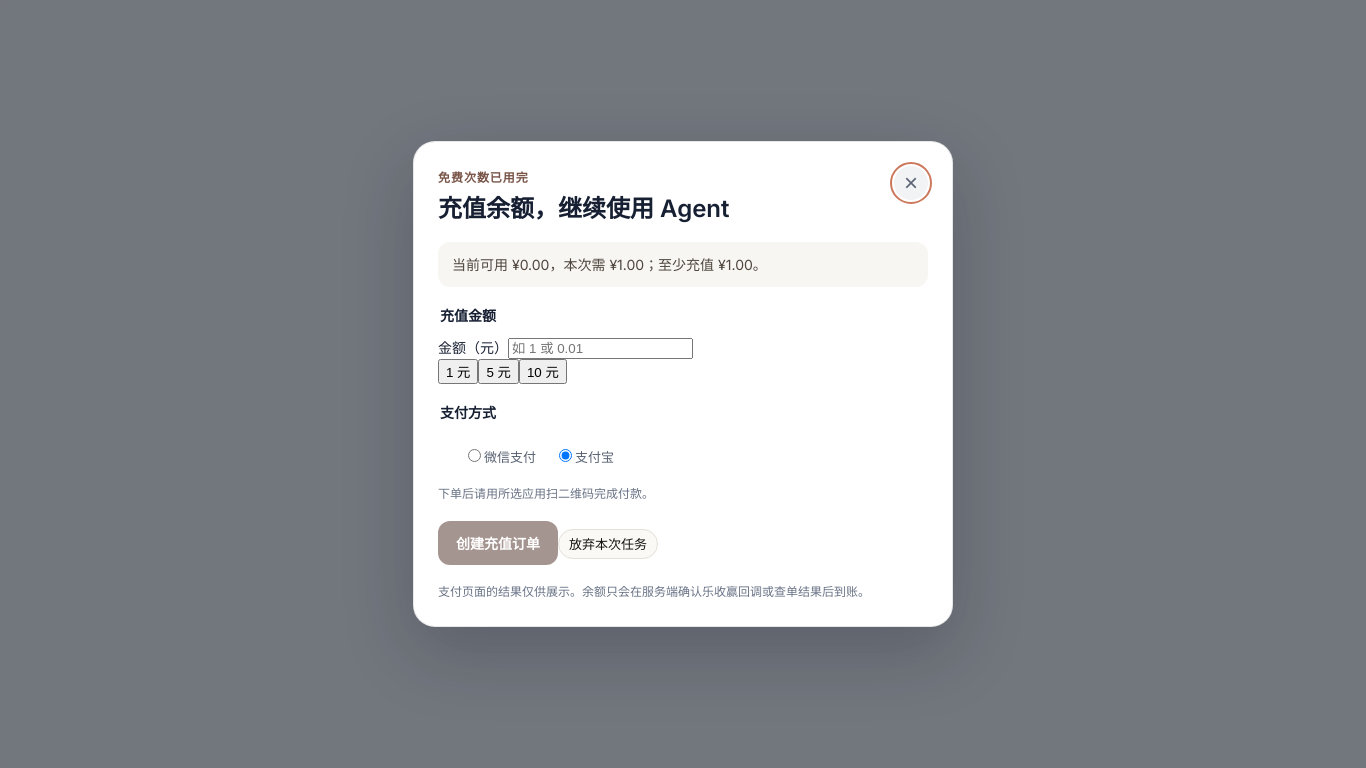
it: RechargeDialog › fills the amount from a quick amount button
Click the button "5 元".
click(499, 372)  # box [478,359,519,384]
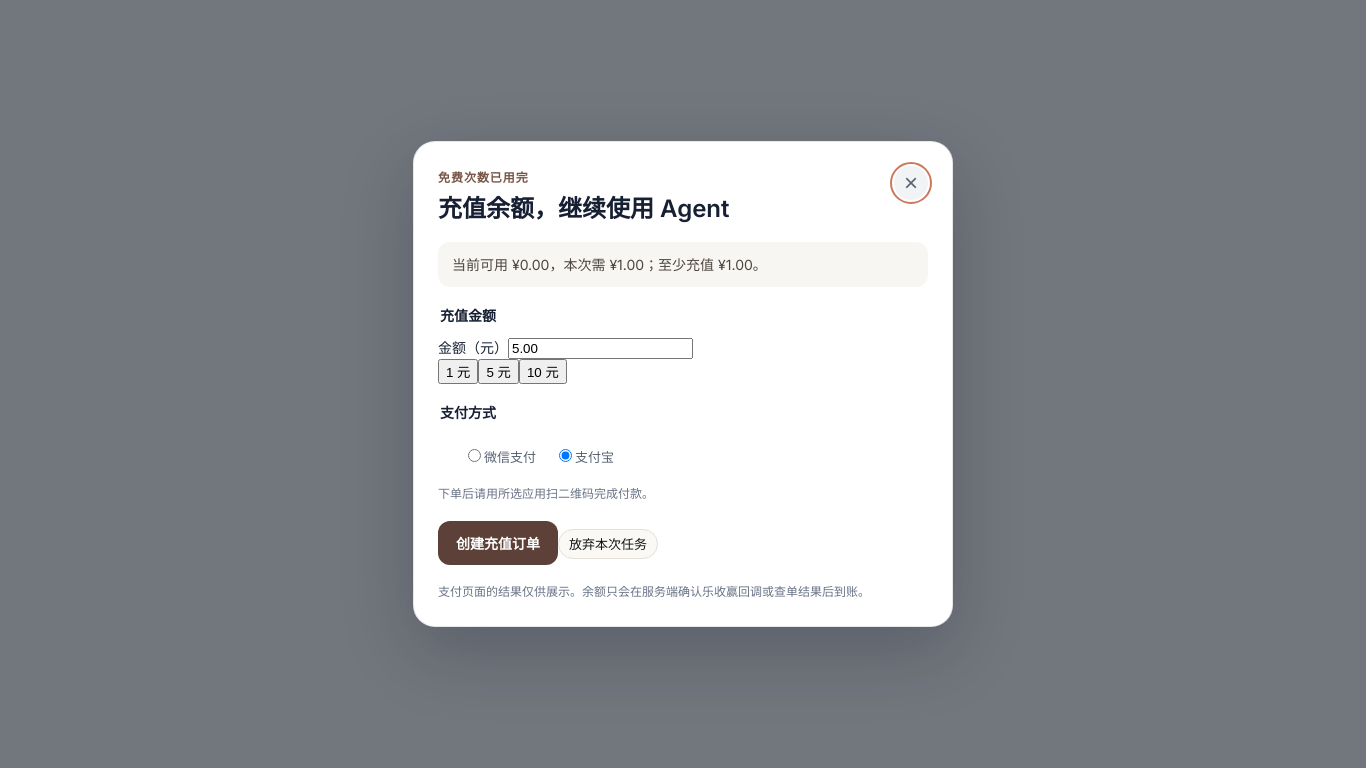
Check: the field with placeholder "如 1 或 0.01" holds "5.00", box [508,338,693,359]
Check: the button "创建充值订单" is enabled, box [438,521,558,565]
